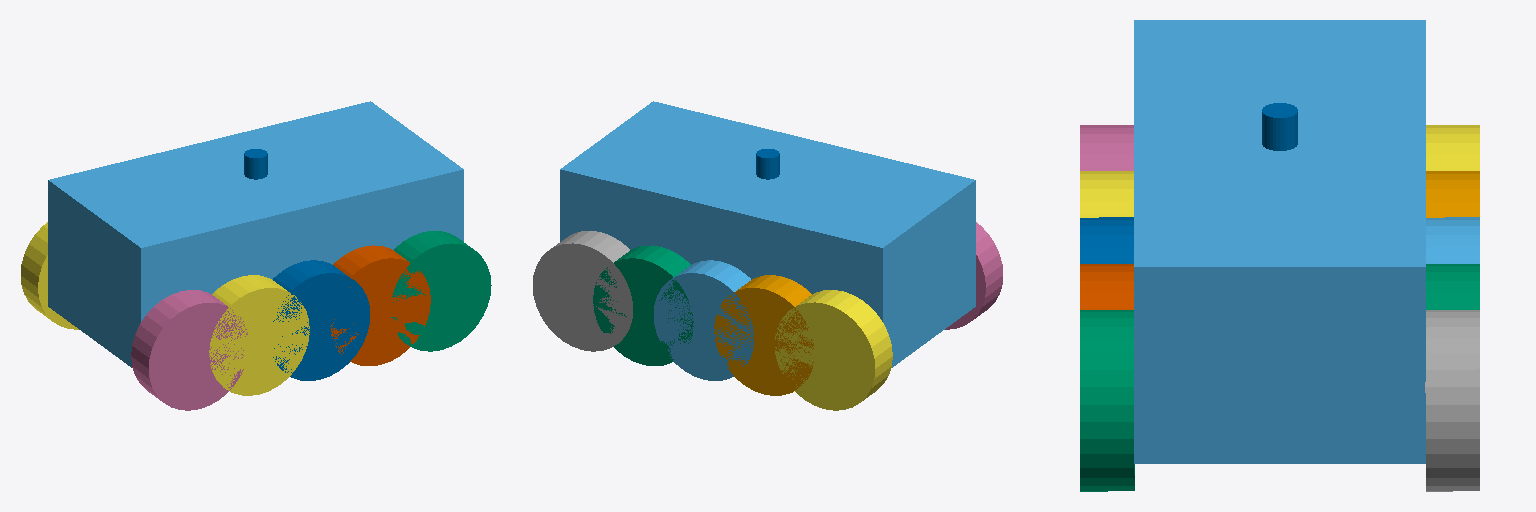
robot.urdf — mammoth:
<?xml version="1.0"?>
<robot name="mammoth">
  <!-- Robot Footprint -->
  <link name="base_footprint"/>
  
  <!--
      ROBOT BASE
  -->
  
  <link name="base_link">
    <visual>
      <geometry>
        <box size="0.8 0.4 0.3"/>
      </geometry>
    </visual>
    <collision>
      <geometry>
        <box size="0.8 0.4 0.3"/>
      </geometry>
    </collision>
  </link>
	
  <joint name="base_footprint_to_base_link" type="fixed">
    <origin rpy="0 0 0" xyz="0 0 0.225"/>
    <parent link="base_footprint"/>
    <child link="base_link"/>
  </joint>

  <!--	
      BACK LEFT WHEEL LINK AND JOINT
  -->

  <link name="wheel_bl">
    <visual>
      <geometry>
        <cylinder length="0.075" radius="0.125"/>
      </geometry>
    </visual>
    <collision>
      <geometry>
        <cylinder length="0.075" radius="0.125"/>
      </geometry>
      <contact_coefficients mu="0.72" resitution="0"  k_p="0"  k_d="0" />
    </collision>
    <inertial>
      <mass value="1.1"/>
      <inertia
        ixx="0.0048125" ixy="0.0"       ixz="0.0"
                        iyy="0.0048125" iyz="0.0"
                                        izz="0.00859375"/>
    </inertial>

  </link>

  <joint name="base_to_wheel_bl" type="fixed">
    <axis xyz="0 0 1"/>
    <origin rpy="1.57 -3.14159 0" xyz="0.3 -0.2375 -0.1"/>
    <parent link="base_link"/>
    <child link="wheel_bl"/>
  </joint>

  <!--
      POSTERIOR LEFT WHEEL LINK AND JOINT
  -->

  <link name="wheel_pl">
    <visual>
      <geometry>
        <cylinder length="0.075" radius="0.125"/>
      </geometry>
    </visual>
    <collision>
      <geometry>
        <cylinder length="0.075" radius="0.125"/>
      </geometry>
      <contact_coefficients mu="0.72" resitution="0"  k_p="0"  k_d="0" />
    </collision>
    <inertial>
      <mass value="1.1"/>
      <inertia
        ixx="0.0048125" ixy="0.0"       ixz="0.0"
                        iyy="0.0048125" iyz="0.0"
                                        izz="0.00859375"/>
    </inertial>
  </link>

  <joint name="base_to_wheel_pl" type="fixed">
    <axis xyz="0 0 1"/>
    <origin rpy="1.57 -3.14159 0" xyz="-0.15 -0.2375 -0.1"/>
    <parent link="base_link"/>
    <child link="wheel_pl"/>
  </joint>

  <!--
      MIDDLE LEFT WHEEL LINK AND JOINT
  -->

  <link name="wheel_ml">
    <visual>
      <geometry>
        <cylinder length="0.075" radius="0.125"/>
      </geometry>
    </visual>
    <collision>
      <geometry>
        <cylinder length="0.075" radius="0.125"/>
      </geometry>
      <contact_coefficients mu="0.72" resitution="0"  k_p="0"  k_d="0" />
    </collision>
    <inertial>
      <mass value="1.1"/>
      <inertia
        ixx="0.0048125" ixy="0.0"       ixz="0.0"
                        iyy="0.0048125" iyz="0.0"
                                        izz="0.00859375"/>
    </inertial>
  </link>

  <joint name="base_to_wheel_ml" type="fixed">
    <axis xyz="0 0 1"/>
    <origin rpy="1.57 -3.14159 0" xyz="0 -0.2375 -0.1"/>
    <parent link="base_link"/>
    <child link="wheel_ml"/>
  </joint>

  <!--
      ANTERIOR LEFT WHEEL LINK AND JOINT
  -->

  <link name="wheel_al">
    <visual>
      <geometry>
        <cylinder length="0.075" radius="0.125"/>
      </geometry>
    </visual>
    <collision>
      <geometry>
        <cylinder length="0.075" radius="0.125"/>
      </geometry>
      <contact_coefficients mu="0.72" resitution="0"  k_p="0"  k_d="0" />
    </collision>
    <inertial>
      <mass value="1.1"/>
      <inertia
        ixx="0.0048125" ixy="0.0"       ixz="0.0"
                        iyy="0.0048125" iyz="0.0"
                                        izz="0.00859375"/>
    </inertial>
  </link>

  <joint name="base_to_wheel_al" type="fixed">
    <axis xyz="0 0 1"/>
    <origin rpy="1.57 -3.14159 0" xyz="0.15 -0.2375 -0.1"/>
    <parent link="base_link"/>
    <child link="wheel_al"/>
  </joint>

  <!--
      FRONT LEFT WHEEL LINK AND JOINT
  -->

  <link name="wheel_fl">
    <visual>
      <geometry>
        <cylinder length="0.075" radius="0.125"/>
      </geometry>
    </visual>
    <collision>
      <geometry>
        <cylinder length="0.075" radius="0.125"/>
      </geometry>
      <contact_coefficients mu="0.72" resitution="0"  k_p="0"  k_d="0" />
    </collision>
    <inertial>
      <mass value="1.1"/>
      <inertia
        ixx="0.0048125" ixy="0.0"       ixz="0.0"
                        iyy="0.0048125" iyz="0.0"
                                        izz="0.00859375"/>
    </inertial>
  </link>

  <joint name="base_to_wheel_fl" type="fixed">
    <axis xyz="0 0 1"/>
    <origin rpy="1.57 -3.14159 0" xyz="-0.3 -0.2375 -0.1"/>
    <parent link="base_link"/>
    <child link="wheel_fl"/>
  </joint>

  <!--
      BACK RIGHT WHEEL LINK AND JOINT
  -->

  <link name="wheel_br">
    <origin rpy="1.57 -3.14159 0" xyz="0.3 0.2375 -0.1"/>
    <visual>
      <geometry>
        <cylinder length="0.075" radius="0.125"/>
      </geometry>
    </visual>
    <collision>
      <geometry>
        <cylinder length="0.075" radius="0.125"/>
      </geometry>
      <contact_coefficients mu="0.72" resitution="0"  k_p="0"  k_d="0" />
    </collision>
    <inertial>
      <mass value="1.1"/>
      <inertia
        ixx="0.0048125" ixy="0.0"       ixz="0.0"
                        iyy="0.0048125" iyz="0.0"
                                        izz="0.00859375"/>
    </inertial>
  </link>

  <joint name="base_to_wheel_br" type="fixed">
    <axis xyz="0 0 1"/>
    <origin rpy="1.57 -3.14159 0" xyz="0.3 0.2375 -0.1"/>
    <parent link="base_link"/>
    <child link="wheel_br"/>
  </joint>

  <!--
      POSTERIOR RIGHT WHEEL LINK AND JOINT
  -->

  <link name="wheel_pr">
    <visual>
      <geometry>
        <cylinder length="0.075" radius="0.125"/>
      </geometry>
    </visual>
    <collision>
      <geometry>
        <cylinder length="0.075" radius="0.125"/>
      </geometry>
      <contact_coefficients mu="0.72" resitution="0"  k_p="0"  k_d="0" />
    </collision>
    <inertial>
      <mass value="1.1"/>
      <inertia
        ixx="0.0048125" ixy="0.0"       ixz="0.0"
                        iyy="0.0048125" iyz="0.0"
                                        izz="0.00859375"/>
    </inertial>
  </link>

  <joint name="base_to_wheel_pr" type="fixed">
    <axis xyz="0 0 1"/>
    <origin rpy="1.57 -3.14159 0" xyz="-0.15 0.2375 -0.1"/>
    <parent link="base_link"/>
    <child link="wheel_pr"/>
  </joint>

  <!--
      MIDDLE RIGHT WHEEL LINK AND JOINT
  -->

  <link name="wheel_mr">
    <visual>
      <geometry>
        <cylinder length="0.075" radius="0.125"/>
      </geometry>
    </visual>
    <collision>
      <geometry>
        <cylinder length="0.075" radius="0.125"/>
      </geometry>
      <contact_coefficients mu="0.72" resitution="0"  k_p="0"  k_d="0" />
    </collision>
    <inertial>
      <mass value="1.1"/>
      <inertia
        ixx="0.0048125" ixy="0.0"       ixz="0.0"
                        iyy="0.0048125" iyz="0.0"
                                        izz="0.00859375"/>
    </inertial>

  </link>
  <joint name="base_to_wheel_mr" type="fixed">
    <axis xyz="0 0 1"/>
    <origin rpy="1.57 -3.14159 0" xyz="0 0.2375 -0.1"/>
    <parent link="base_link"/>
    <child link="wheel_mr"/>
  </joint>

  <!--
      ANTERIOR RIGHT WHEEL LINK AND JOINT
  -->

  <link name="wheel_ar">
    <visual>
      <geometry>
        <cylinder length="0.075" radius="0.125"/>
      </geometry>
    </visual>
    <collision>
      <geometry>
        <cylinder length="0.075" radius="0.125"/>
      </geometry>
      <contact_coefficients mu="0.72" resitution="0"  k_p="0"  k_d="0" />
    </collision>
    <inertial>
      <mass value="1.1"/>
      <inertia
        ixx="0.0048125" ixy="0.0"       ixz="0.0"
                        iyy="0.0048125" iyz="0.0"
                                        izz="0.00859375"/>
    </inertial>
  </link>

  <joint name="base_to_wheel_ar" type="fixed">
    <axis xyz="0 0 1"/>
    <origin rpy="1.57 -3.14159 0" xyz="0.15 0.2375 -0.1"/>
    <parent link="base_link"/>
    <child link="wheel_ar"/>
  </joint>

  <!--
      FRONT RIGHT WHEEL LINK AND JOINT
  -->

  <link name="wheel_fr">  
    <visual>
      <geometry>
        <cylinder length="0.075" radius="0.125"/>
      </geometry>
    </visual>
    <collision>
      <geometry>
        <cylinder length="0.075" radius="0.125"/>
      </geometry>
      <contact_coefficients mu="0.72" resitution="0"  k_p="0"  k_d="0" />
    </collision>
    <inertial>
      <mass value="1.1"/>
      <inertia
        ixx="0.0048125" ixy="0.0"       ixz="0.0"
                        iyy="0.0048125" iyz="0.0"
                                        izz="0.00859375"/>
    </inertial>
  </link>

  <joint name="base_to_wheel_fr" type="fixed">
    <axis xyz="0 0 1"/>
    <origin rpy="1.57 -3.14159 0" xyz="-0.3 0.2375 -0.1"/>
    <parent link="base_link"/>
    <child link="wheel_fr"/>
  </joint>

  <!--
      LIDAR LINK, IMU LINK AND JOINT
  -->

  <link name="laser_link">
    <origin rpy="0 0 0" xyz="0 0 0.175"/>
    <visual>
      <geometry>
        <cylinder length="0.05" radius="0.025"/>
      </geometry>
    </visual>
    <collision>
      <geometry>
        <cylinder length="0.05" radius="0.025"/>
      </geometry>
    </collision>
    <inertial>
      <mass value="1e-5" />
      <inertia ixx="1e-6" ixy="0" ixz="0" iyy="1e-6" iyz="0" izz="1e-6" />
    </inertial>
  </link>

  <joint name="base_to_laser" type="fixed">
    <origin rpy="0 0 0" xyz="0 0 0.175"/>
    <parent link="base_link"/>
    <child link="laser_link"/>
  </joint>

 <link name="imu_link">
    <origin rpy="0 0 0" xyz="0.175 0 0.200"/>
    <visual>
      <geometry>
        <cylinder length="0.05" radius="0.025"/>
      </geometry>
    </visual>
    <collision>
      <geometry>
        <cylinder length="0.05" radius="0.025"/>
      </geometry>
    </collision>
    <inertial>
      <mass value="1e-5" />
      <inertia ixx="1e-6" ixy="0" ixz="0" iyy="1e-6" iyz="0" izz="1e-6" />
    </inertial>
  </link>

  <joint name="base_to_imu" type="fixed">
    <origin rpy="0 0 0" xyz="0 0 0.175"/>
    <parent link="base_link"/>
    <child link="imu_link"/>
  </joint>
</robot>

--- Render facts (derived) ---
Views: 3 orthographic renders of the robot side by side, from view 1: azimuth 30°, elevation 25°; view 2: azimuth 150°, elevation 25°; view 3: azimuth 270°, elevation 25°.
Robot: mammoth — 14 links, 13 joints (13 fixed); root link base_footprint; default pose: all joints at 0.
Visible links, largest first — view 1: base_link, wheel_fl, wheel_pl, wheel_bl, wheel_ml, wheel_al, wheel_fr, laser_link; view 2: base_link, wheel_fr, wheel_br, wheel_mr, wheel_pr, wheel_ar, wheel_fl, laser_link; view 3: base_link, wheel_bl, wheel_br, wheel_ml, wheel_mr, wheel_pl, wheel_pr, wheel_al, wheel_fl, wheel_ar, wheel_fr, laser_link.
Boxes of the visible links, box(x1,y1,x2,y2) form: base_link: box(48, 101, 463, 367); wheel_fl: box(131, 290, 247, 410); wheel_pl: box(209, 275, 309, 395); wheel_bl: box(391, 231, 491, 351); wheel_ml: box(273, 260, 369, 380); wheel_al: box(330, 245, 430, 365); wheel_fr: box(21, 222, 78, 329); laser_link: box(244, 149, 267, 179); base_link: box(560, 101, 975, 367); wheel_fr: box(775, 290, 892, 410); wheel_br: box(533, 231, 632, 351); wheel_mr: box(654, 260, 753, 380); wheel_pr: box(714, 275, 813, 395); wheel_ar: box(593, 245, 693, 365); wheel_fl: box(945, 222, 1002, 329); laser_link: box(756, 149, 779, 179); base_link: box(1134, 20, 1425, 463); wheel_bl: box(1080, 310, 1134, 491); wheel_br: box(1425, 310, 1479, 491); wheel_ml: box(1080, 217, 1133, 263); wheel_mr: box(1426, 217, 1479, 263); wheel_pl: box(1080, 171, 1133, 217); wheel_pr: box(1426, 171, 1479, 217); wheel_al: box(1080, 264, 1133, 309); wheel_fl: box(1080, 125, 1133, 170); wheel_ar: box(1426, 264, 1479, 309); wheel_fr: box(1426, 125, 1479, 170); laser_link: box(1262, 103, 1297, 150).
Size in the robot's own frame: 0.85 by 0.5502 by 0.425 metres.
Geometry: primitives only (box / cylinder / sphere), no mesh files.